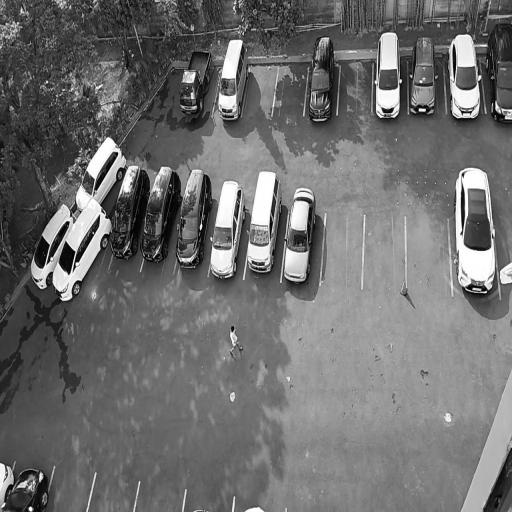Car: (49, 193, 114, 304), (451, 161, 499, 296), (138, 159, 186, 267), (25, 199, 78, 295), (170, 165, 217, 270), (107, 160, 154, 263), (72, 130, 129, 214), (243, 165, 286, 274), (205, 177, 250, 280), (281, 184, 319, 283), (445, 29, 485, 123), (480, 21, 512, 124), (218, 34, 253, 124), (180, 37, 215, 118), (306, 33, 337, 123), (0, 463, 55, 512), (373, 29, 402, 119), (408, 32, 438, 116)
Space Available: (405, 218, 452, 297), (321, 210, 364, 289), (363, 214, 405, 289), (43, 465, 96, 511), (88, 472, 139, 511), (242, 67, 278, 117), (273, 66, 308, 117), (338, 62, 371, 116), (134, 480, 186, 512), (495, 228, 512, 300)
